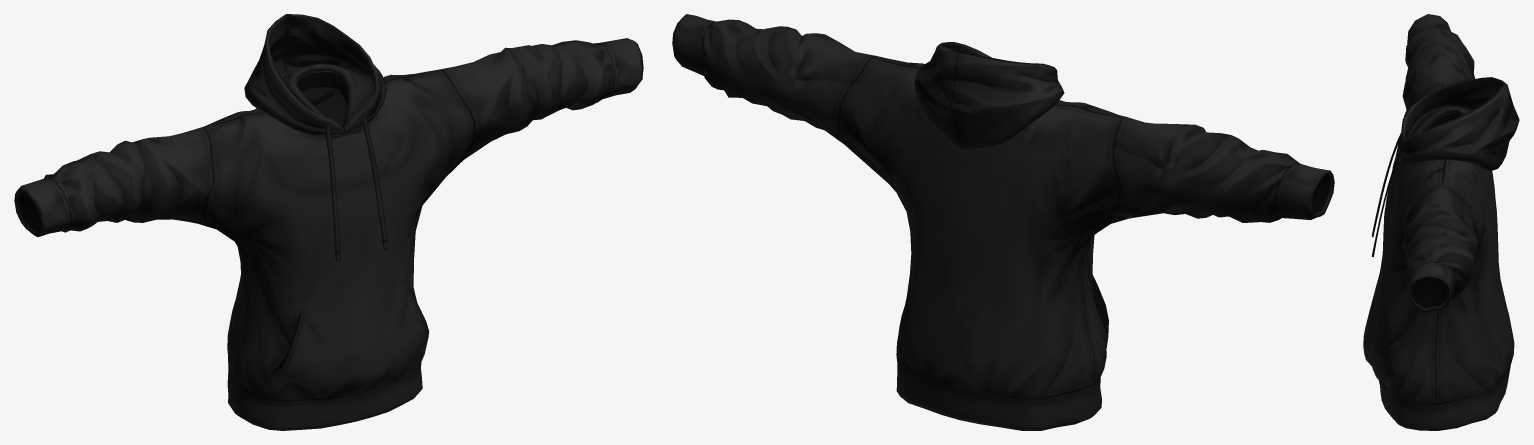
The model's file is hoodie.glb.
The picture shows the model from 3 angles, left to right: view 1: azimuth 30°, elevation 25°; view 2: azimuth 150°, elevation 25°; view 3: azimuth 270°, elevation 25°; orthographic projection. The views are drawn at different scales.
Visible parts, largest first — view 1: Body.014; view 2: Body.014; view 3: Body.014.
Part boxes in pixels (box(x1,y1,x2,y2)): Body.014: box(14, 14, 643, 430); Body.014: box(672, 14, 1334, 430); Body.014: box(1363, 14, 1519, 430).
Bounding box in the file's own units: 1.56 × 0.867 × 0.3915.
1 material, 1 textured.
